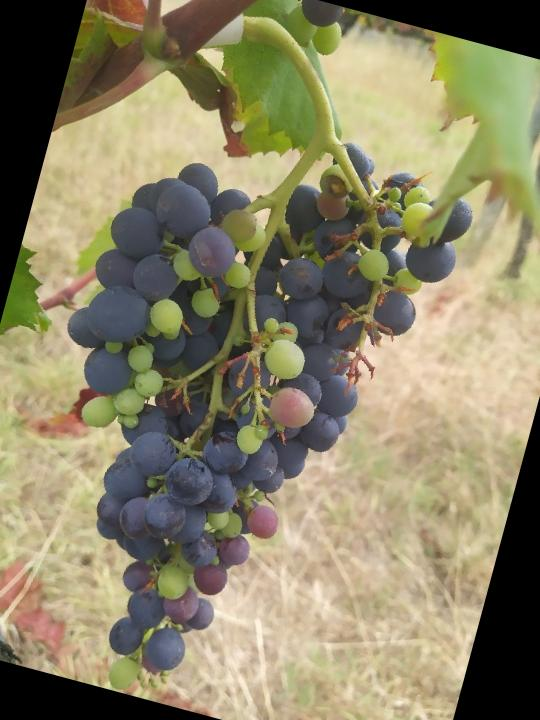grape: (0, 78, 489, 720)
